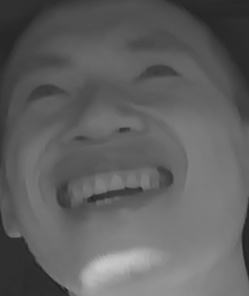eye: (132, 55, 179, 90), (20, 75, 67, 107)
mouth: (43, 152, 176, 224)
